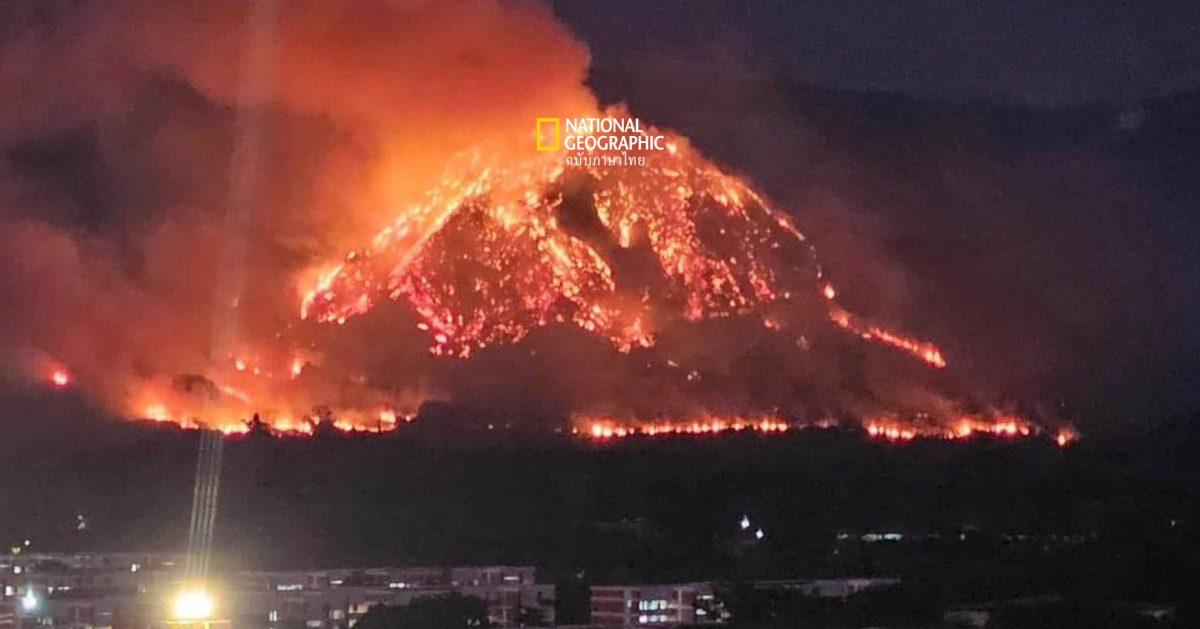fire: (194, 29, 1071, 499)
